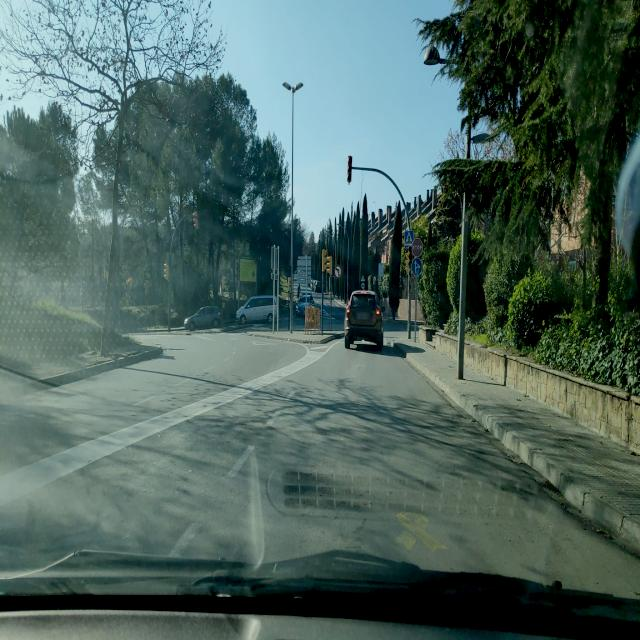car: (344, 288, 384, 350), (236, 294, 280, 328), (184, 304, 221, 333)
